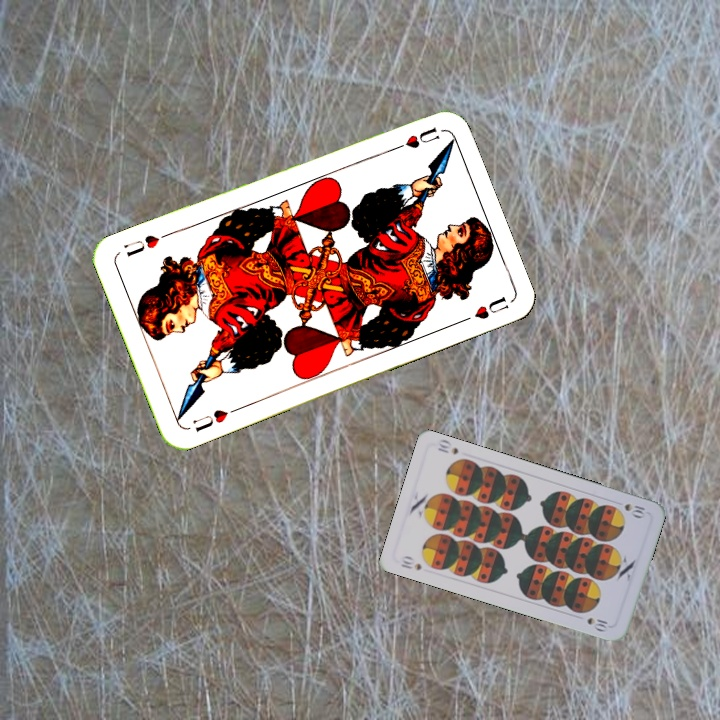HU: (386, 123, 442, 154), (188, 403, 241, 435)
S10: (620, 499, 648, 521), (397, 552, 424, 573)
